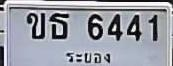1: (148, 14, 156, 40)
4: (107, 13, 121, 40), (126, 14, 140, 40)
6: (87, 13, 102, 39)
A02: (26, 12, 44, 38)
A24: (49, 11, 69, 38)
RYG: (62, 48, 115, 66)
